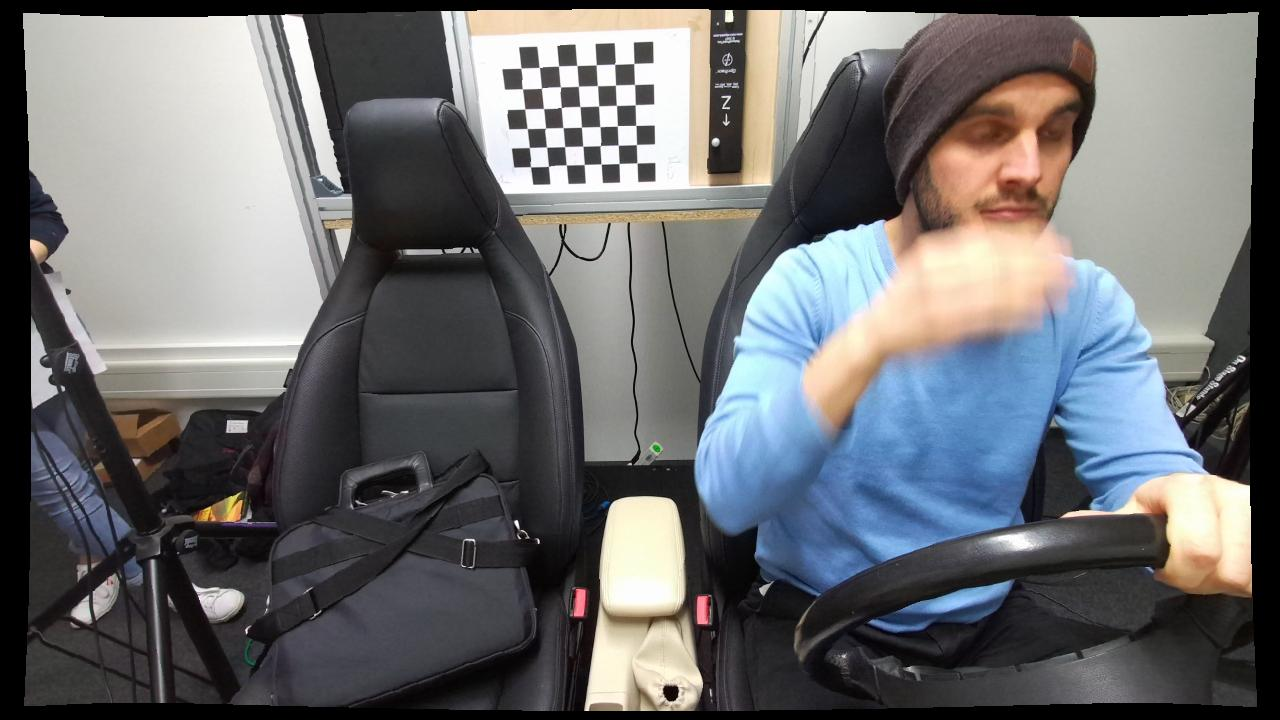Distracted: (689, 24, 1198, 717)
